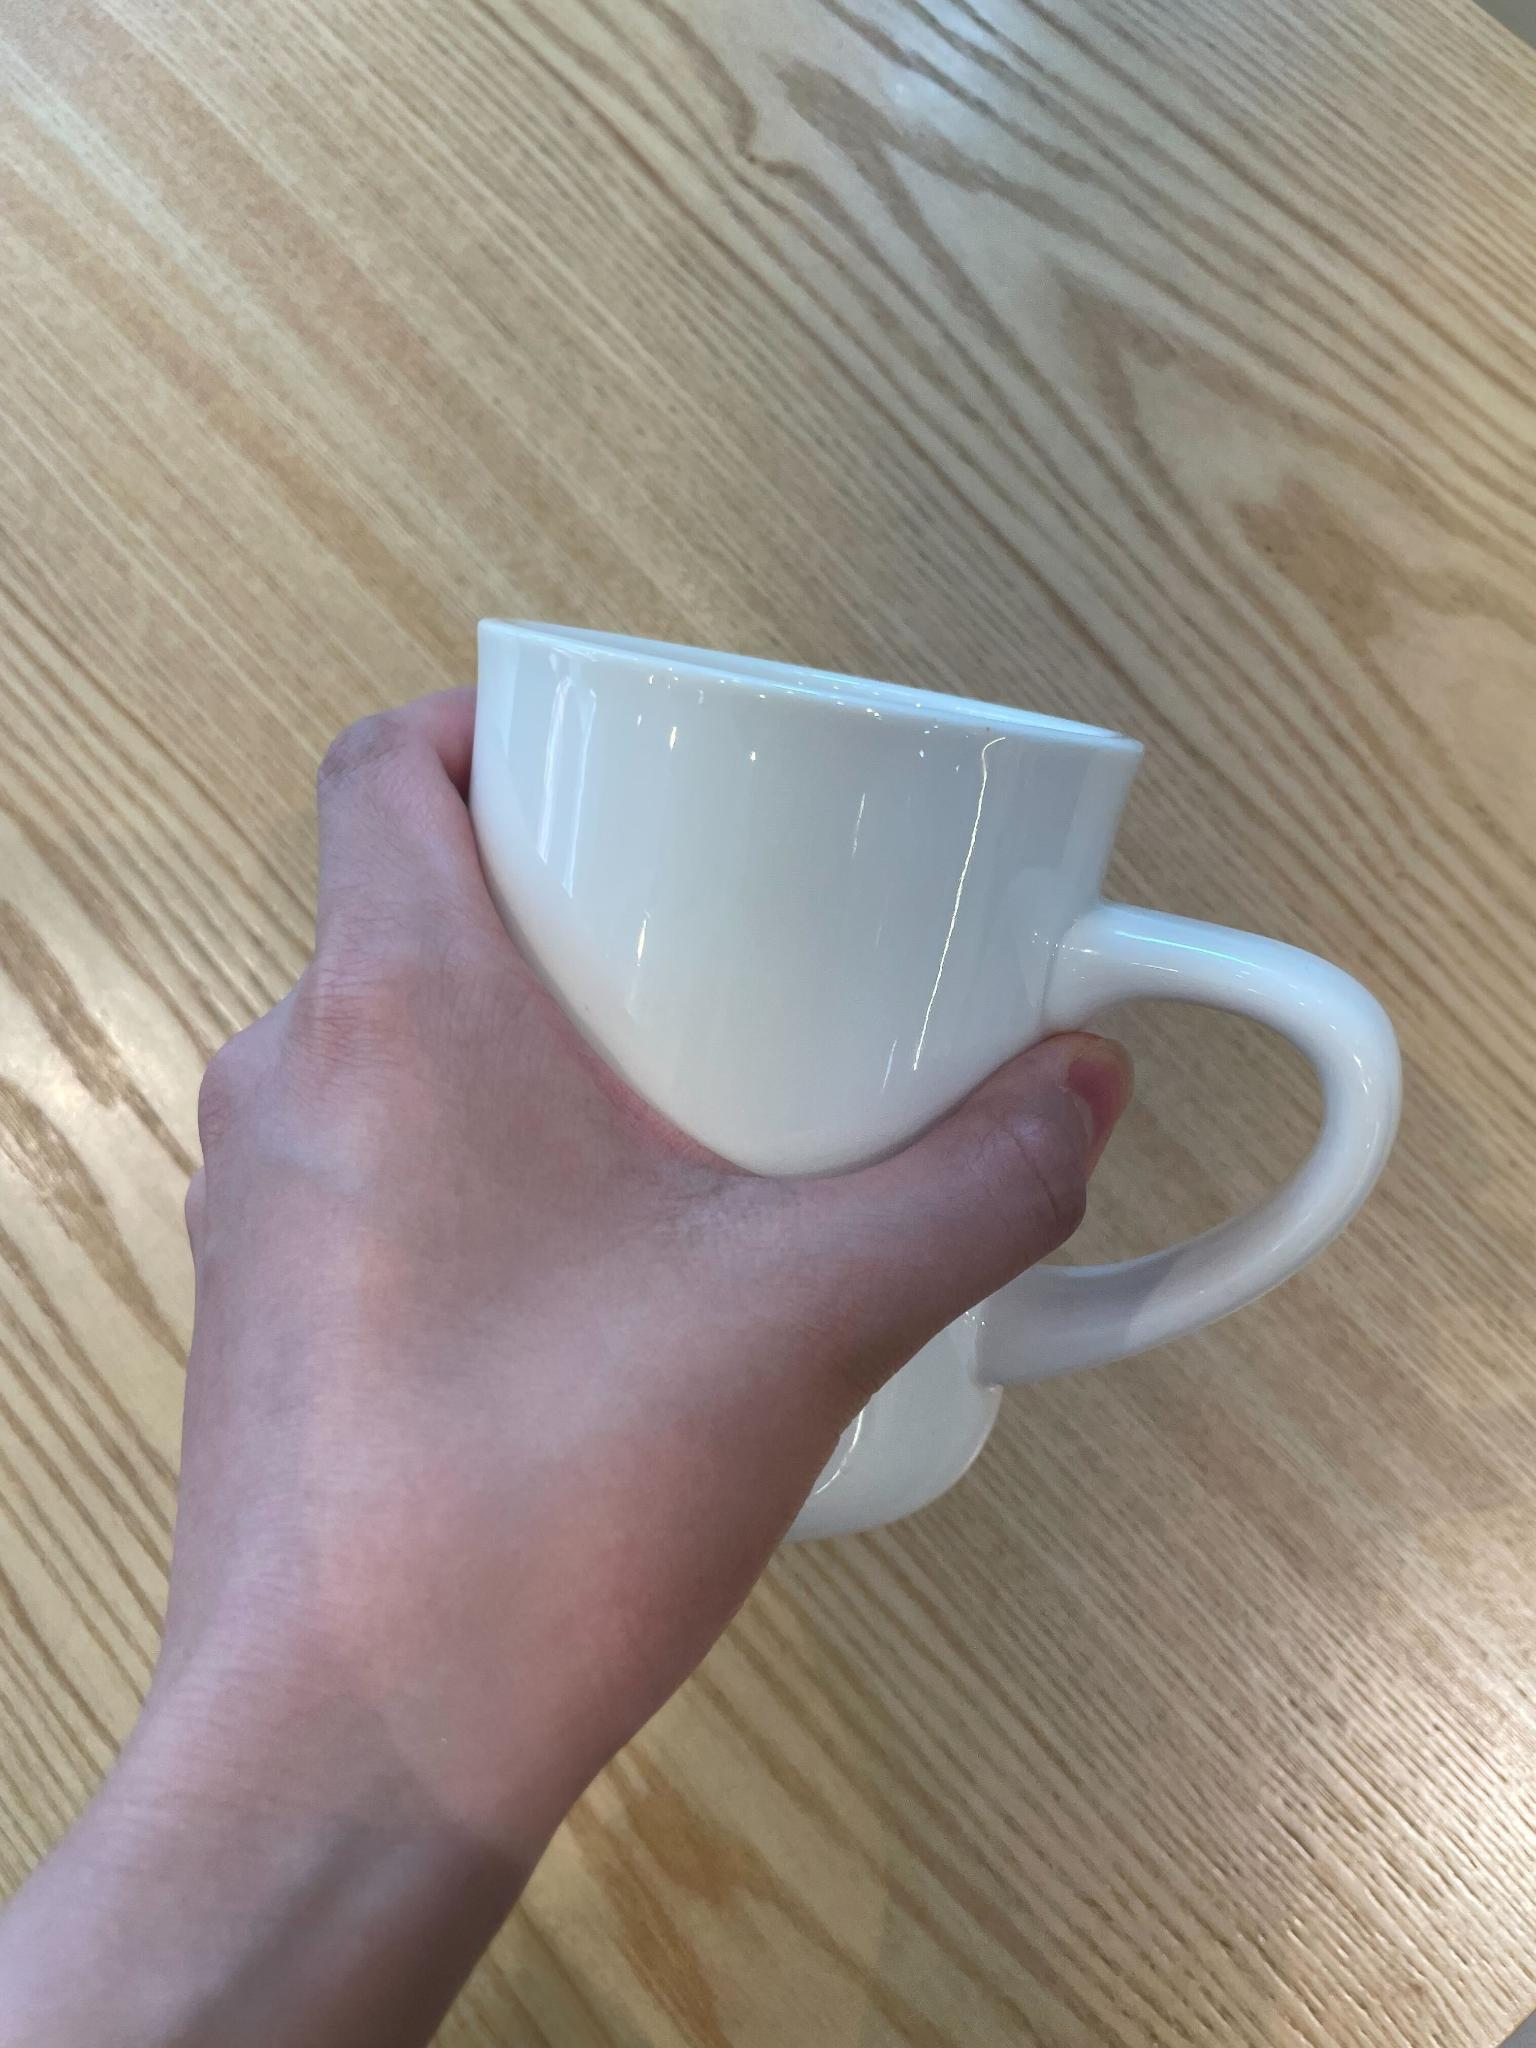cup: (158, 597, 1433, 1906)
